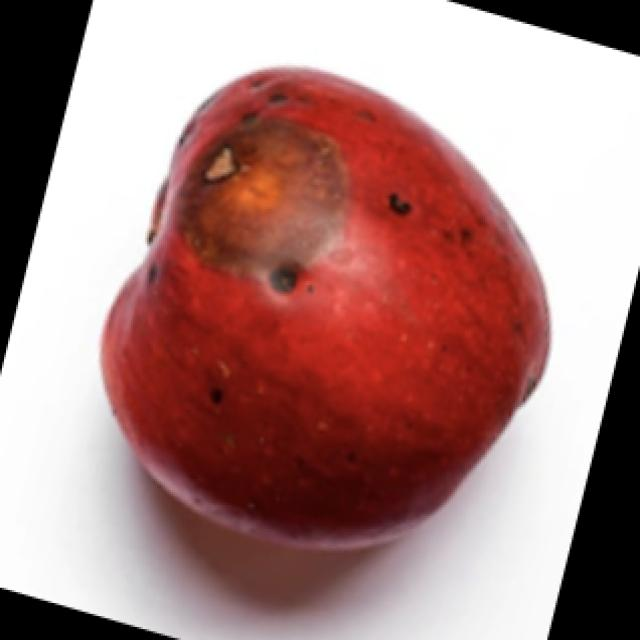Rotten: (97, 60, 557, 555)
